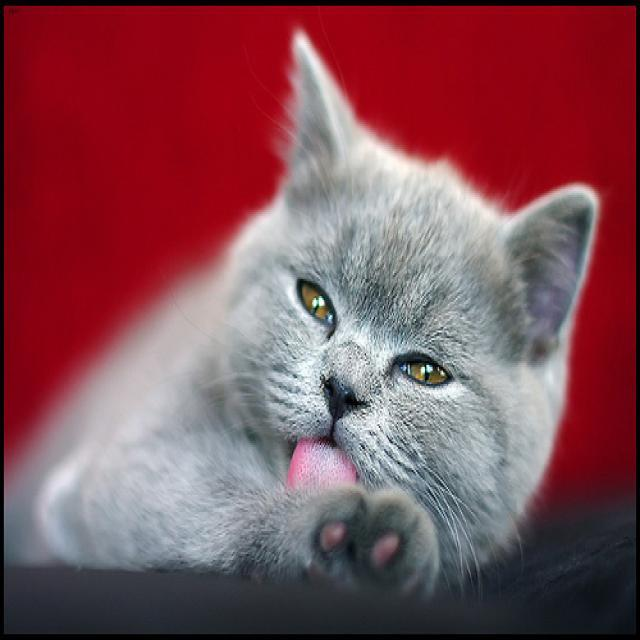British_Shorthair: (214, 27, 595, 564)
